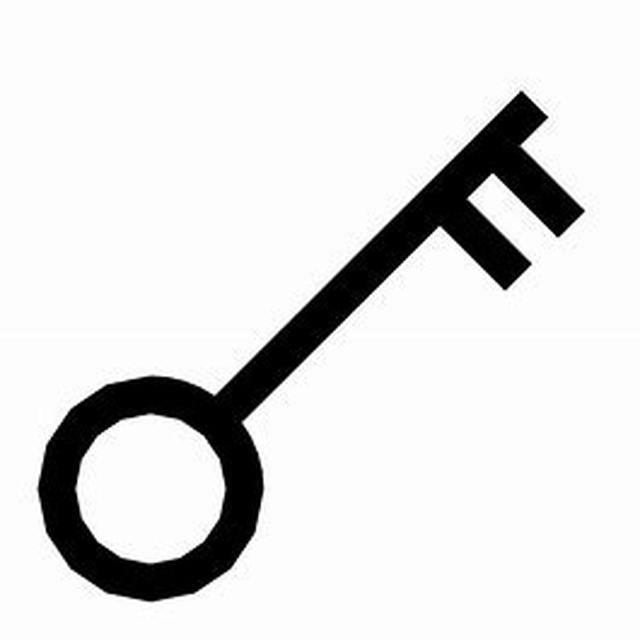key: (32, 56, 578, 634)
